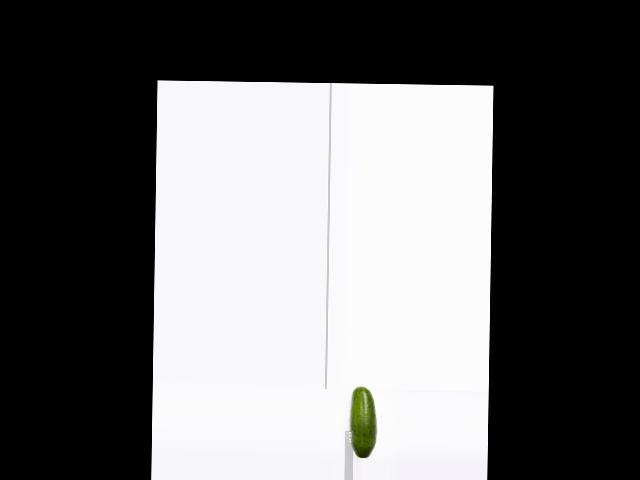cucumber: (348, 386, 377, 459)
